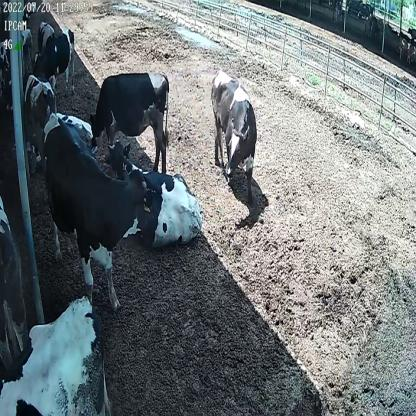cow: (39, 112, 152, 312), (103, 134, 205, 248), (88, 68, 171, 170), (208, 66, 258, 207), (32, 29, 78, 92)
